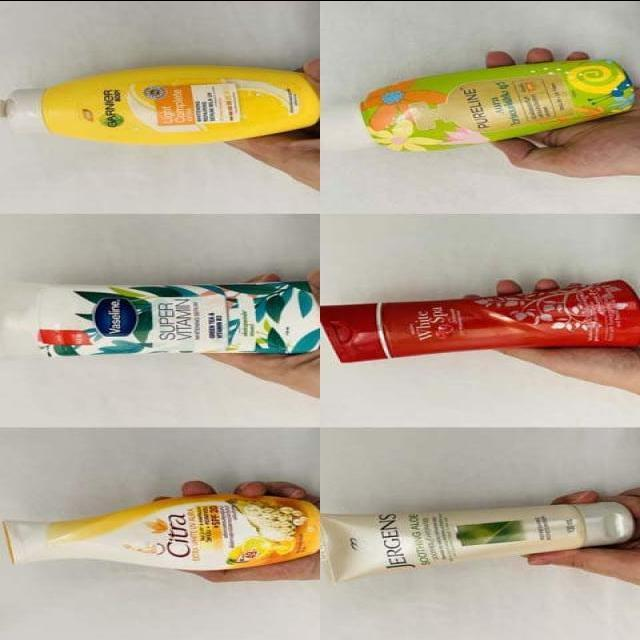Squeeze Tube: (320, 63, 630, 156), (322, 277, 639, 363), (321, 499, 635, 582), (7, 64, 318, 145), (3, 493, 324, 571), (3, 283, 324, 358)
